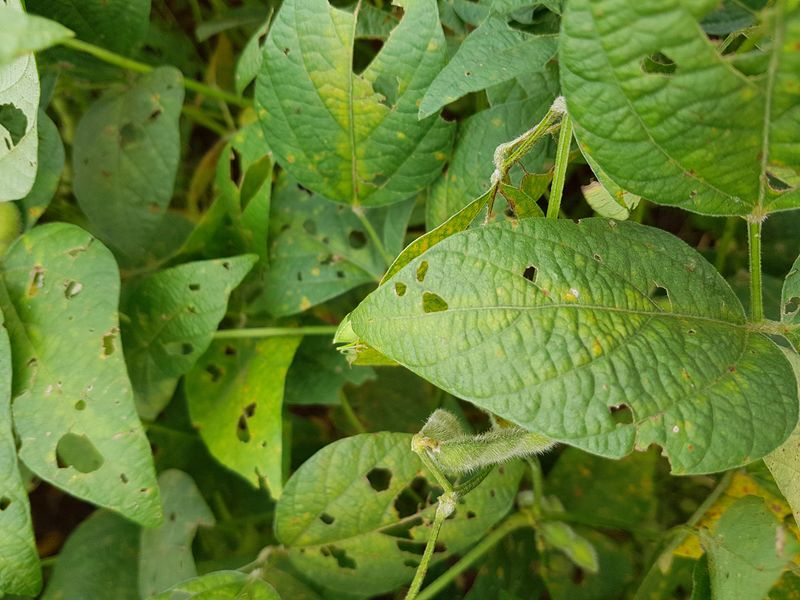Nezara_viridula_adulto: (321, 305, 387, 374)
